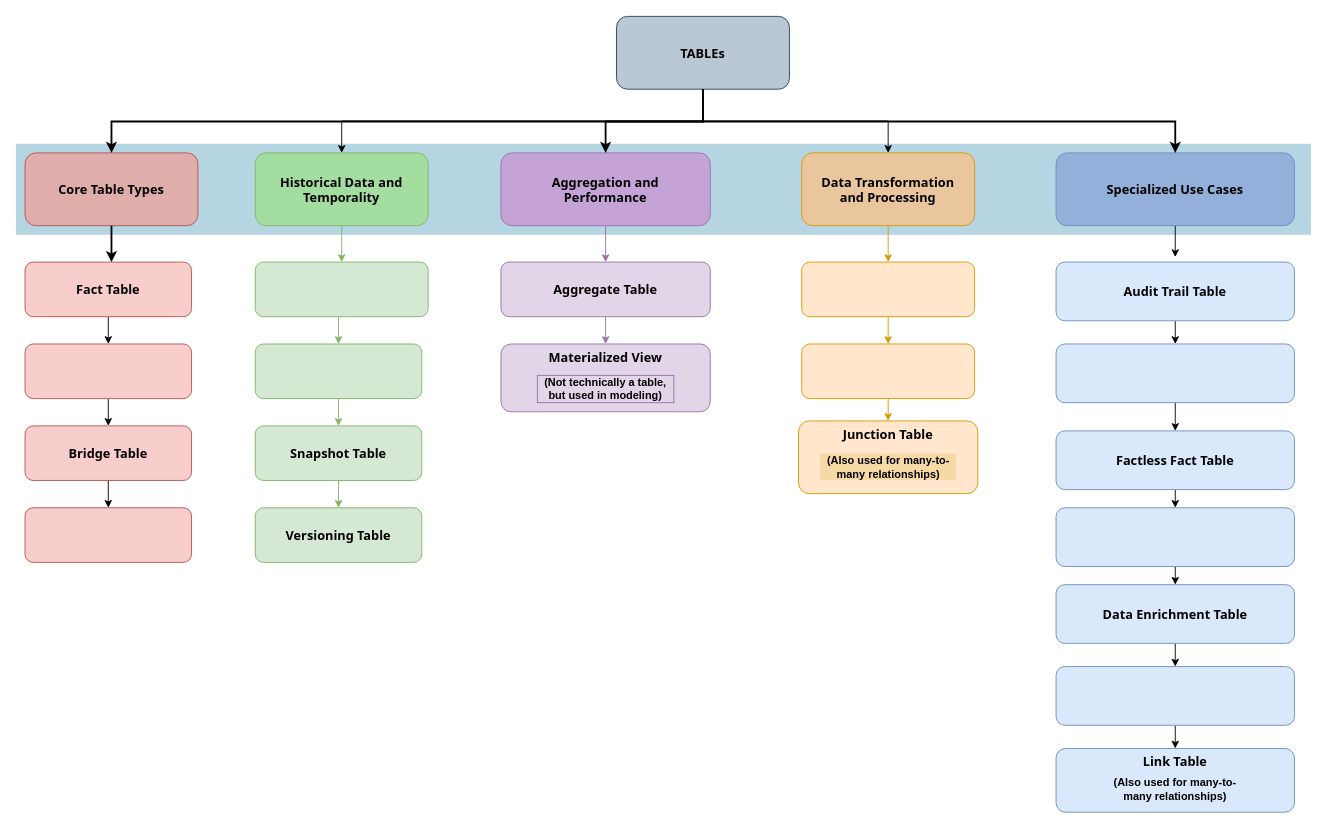
The diagram is 1326 pixels wide and 828 high, and some of its shapes have lost their labels. Here are the shapes that lost their labels. From the top down, the centre of each, then its label:
At point (341, 289): "SCD Table (Typ1 || Typ2 || Typ3)".
At point (888, 289): "Staging Table".
At point (108, 371): "Dimension Table".
At point (338, 371): "Temporality Table".
At point (888, 371): "Virtual or Derived Table".
At point (1174, 373): "Logging Table".
At point (108, 534): "Lookup Table".
At point (1174, 536): "Hierarchy Bridge Table".
At point (1174, 695): "Parameter Table".
